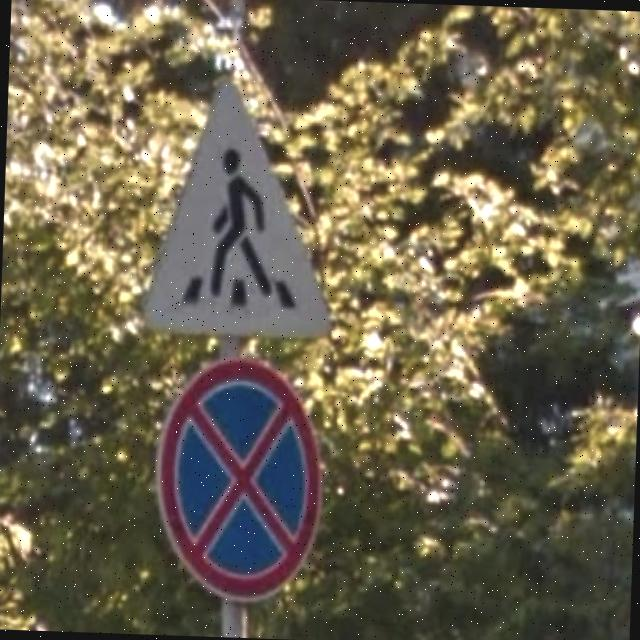Przejscie dla pieszych: (140, 75, 340, 342)
Zakaz zatrzymywania sie: (150, 351, 328, 606)
